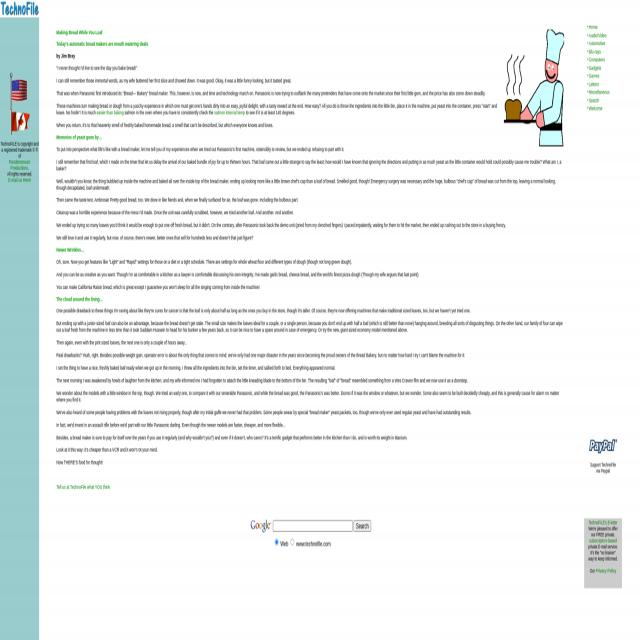button: (504, 30, 564, 146), (10, 73, 29, 108), (0, 0, 39, 17), (9, 108, 30, 134), (588, 438, 618, 454), (249, 517, 271, 534), (354, 520, 372, 532), (583, 23, 589, 29), (583, 31, 589, 37), (583, 64, 589, 70), (583, 72, 589, 78), (583, 89, 589, 94), (583, 97, 589, 102), (583, 105, 589, 110), (583, 40, 589, 45), (583, 48, 589, 53), (583, 56, 589, 61), (583, 81, 589, 86)
field: (273, 520, 353, 532), (274, 538, 279, 546), (290, 538, 295, 546)
